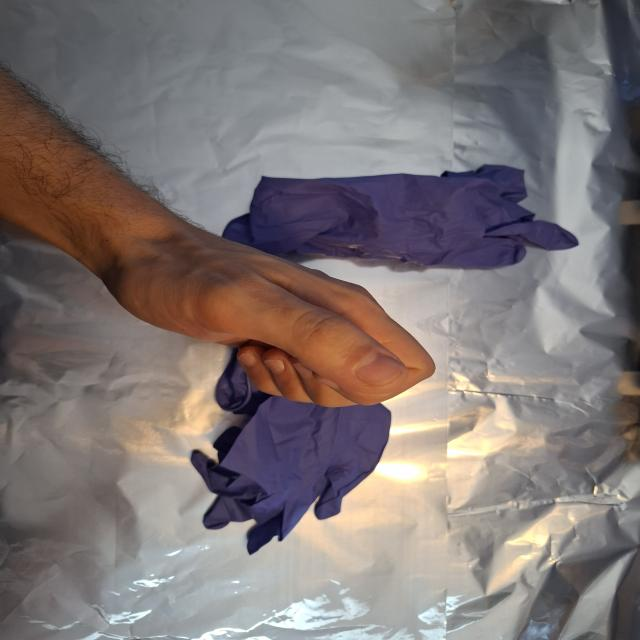glove_off: (100, 222, 438, 409)
